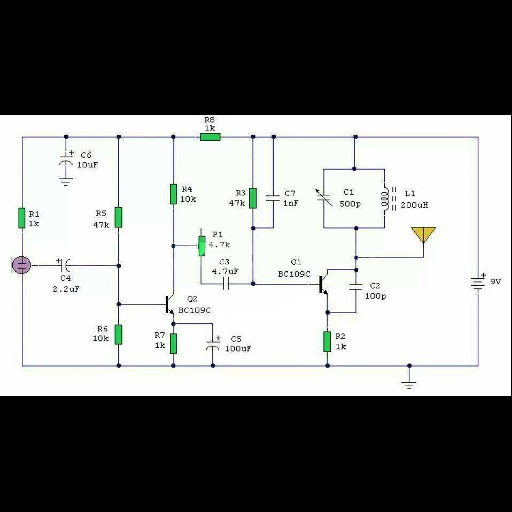battery: (466, 269, 487, 297)
capacitor: (218, 275, 236, 293), (347, 278, 364, 294), (264, 190, 281, 205)
firstpolarcapacitor: (51, 251, 76, 274), (53, 146, 76, 168), (201, 334, 222, 353)
firstresistance: (112, 203, 128, 234), (162, 182, 179, 209), (13, 204, 28, 234), (168, 331, 184, 358), (245, 184, 261, 211), (318, 328, 334, 354), (197, 131, 225, 145), (114, 320, 126, 347)
gnd: (398, 379, 421, 391)
inductor: (374, 182, 390, 215)
npn: (158, 287, 177, 316), (315, 269, 332, 300)
